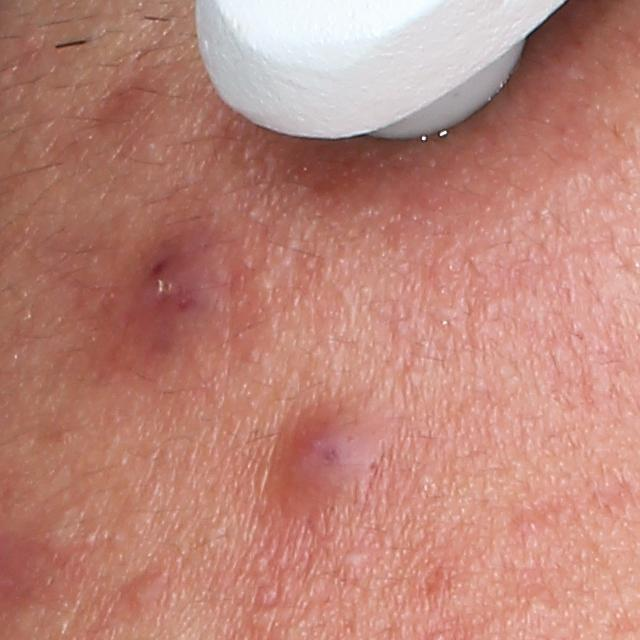comedo: (341, 544, 373, 580)
papule: (255, 398, 385, 513), (128, 232, 239, 364), (127, 565, 160, 617)
